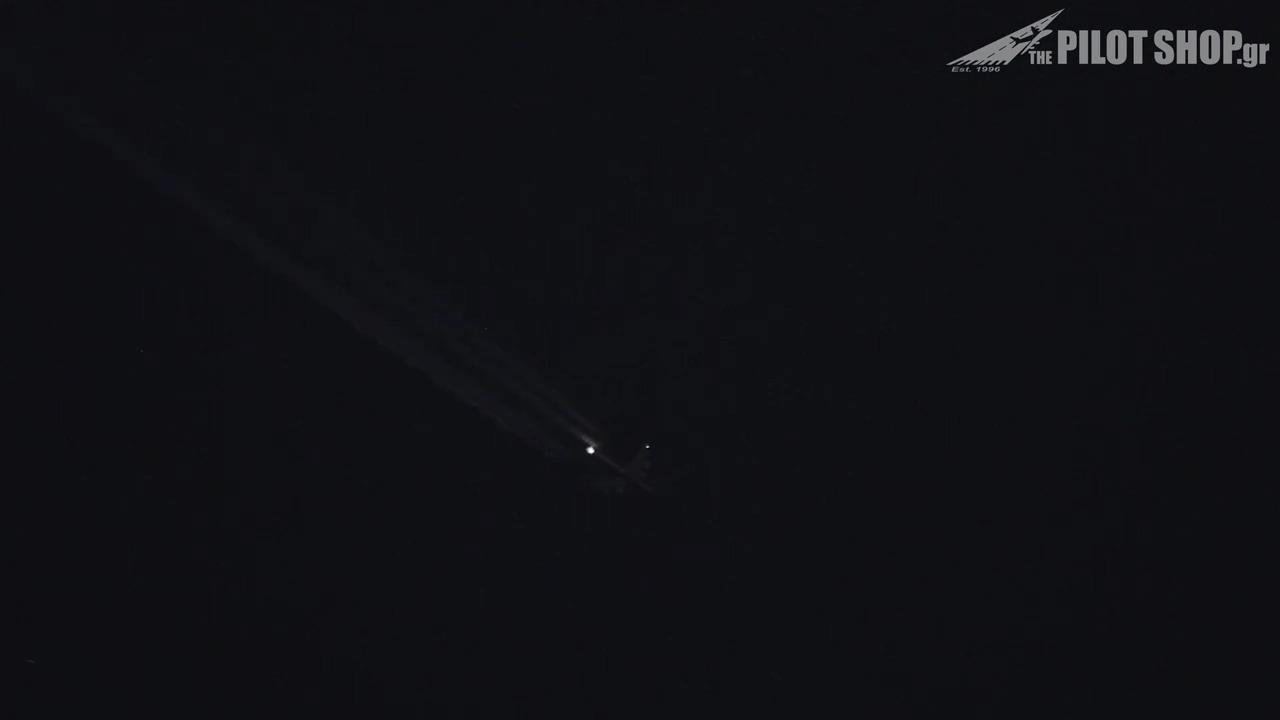Plane: (507, 391, 722, 528)
